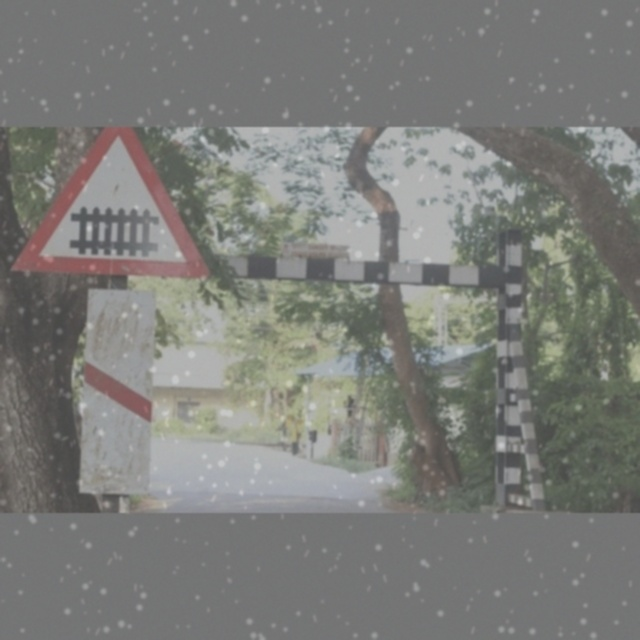Guarded_Level_Crossing: (26, 135, 208, 281)
